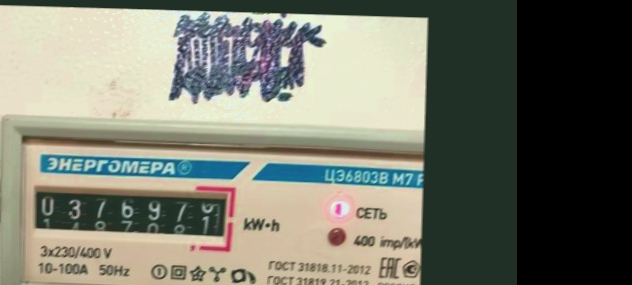0: (39, 194, 55, 216)
1: (200, 214, 210, 236)
3: (67, 198, 81, 219)
6: (119, 195, 135, 219)
7: (93, 196, 108, 219), (173, 198, 188, 221)
9: (146, 198, 161, 221)
screen: (22, 176, 238, 255)
